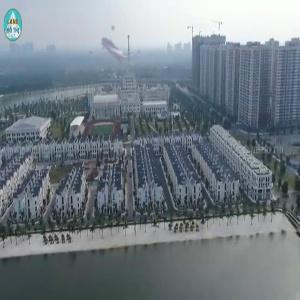drone: (77, 10, 156, 89)
